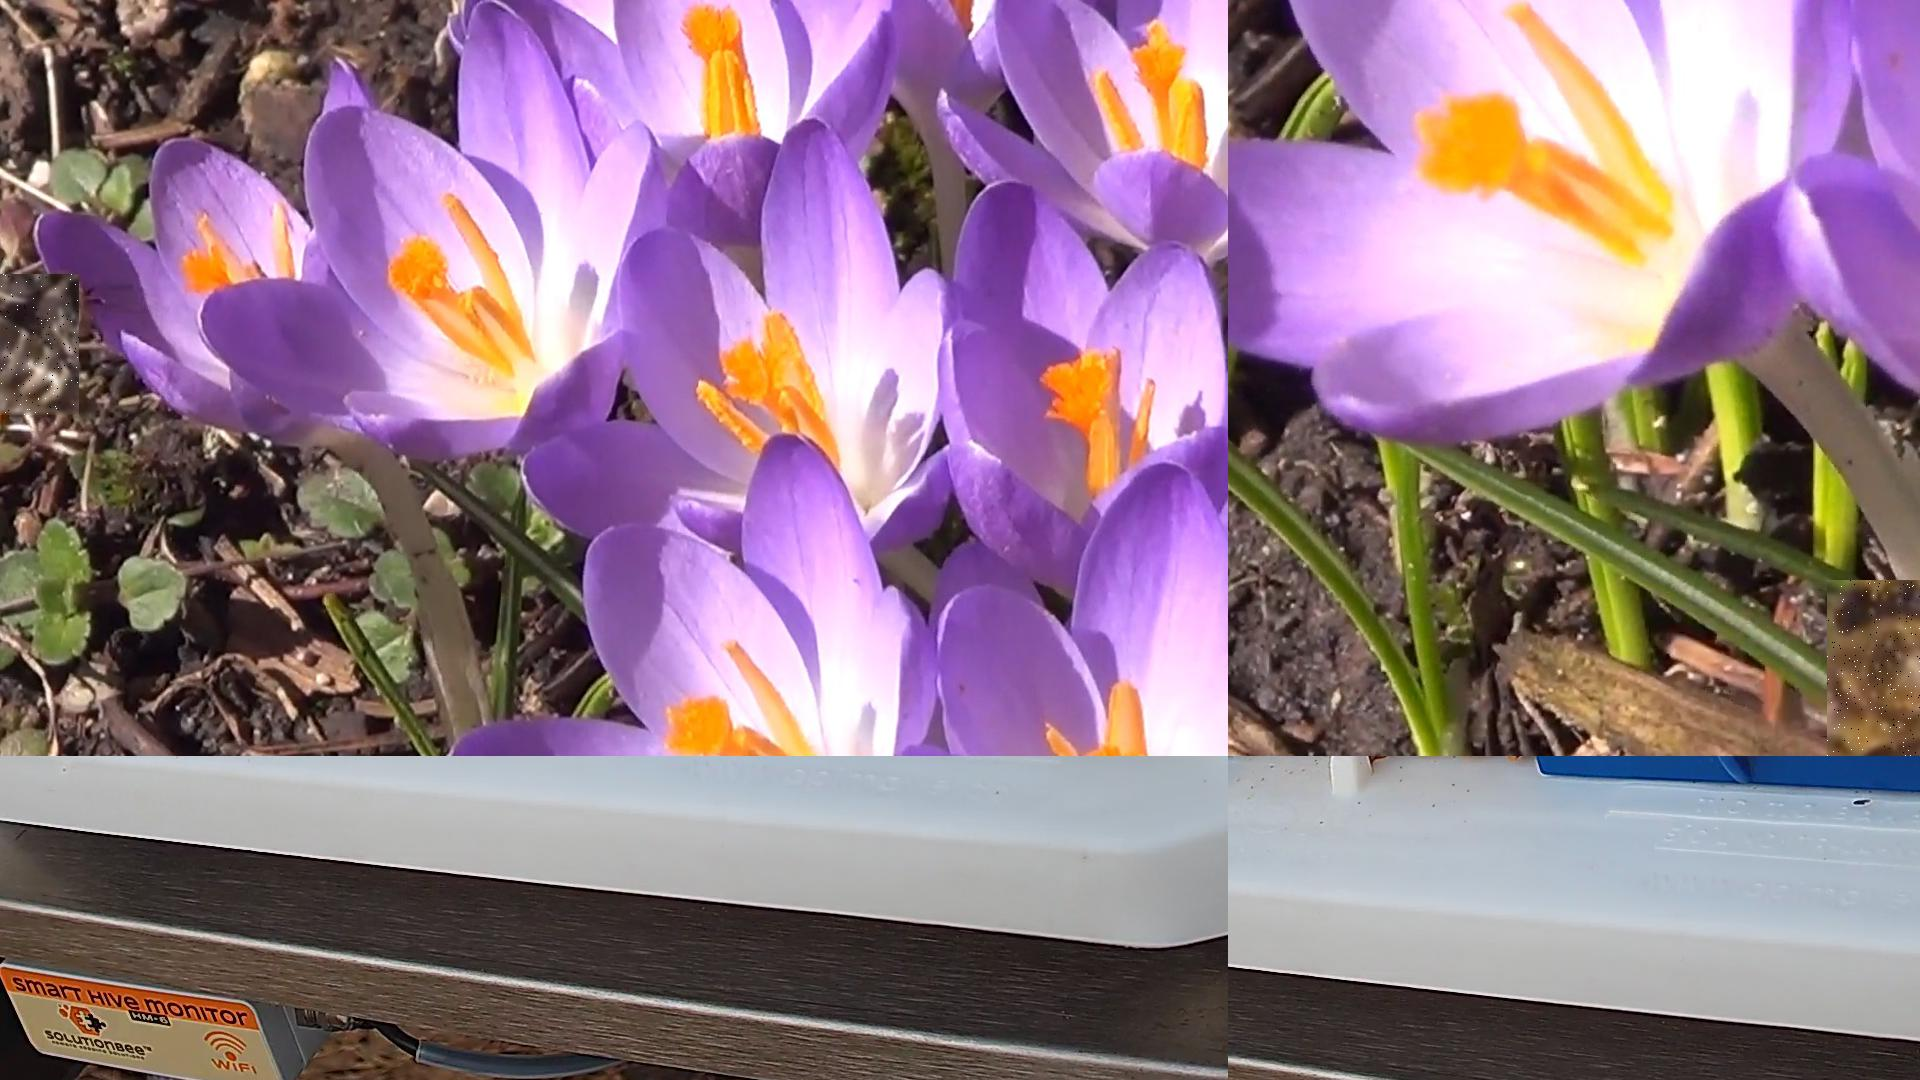pollenbee: (1826, 580, 1919, 756), (0, 274, 80, 418)
